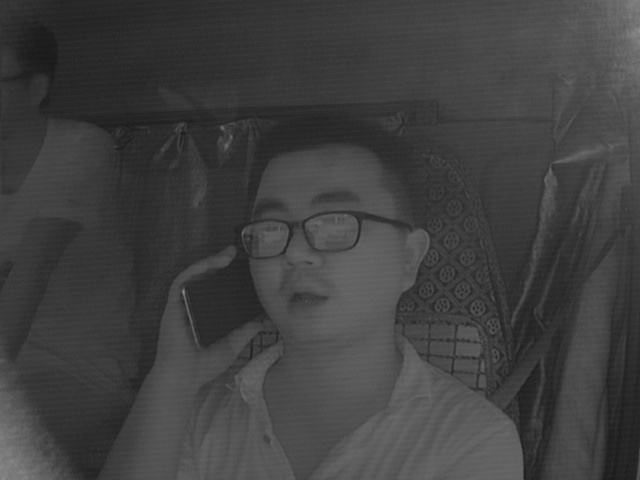hand: (157, 251, 243, 371)
